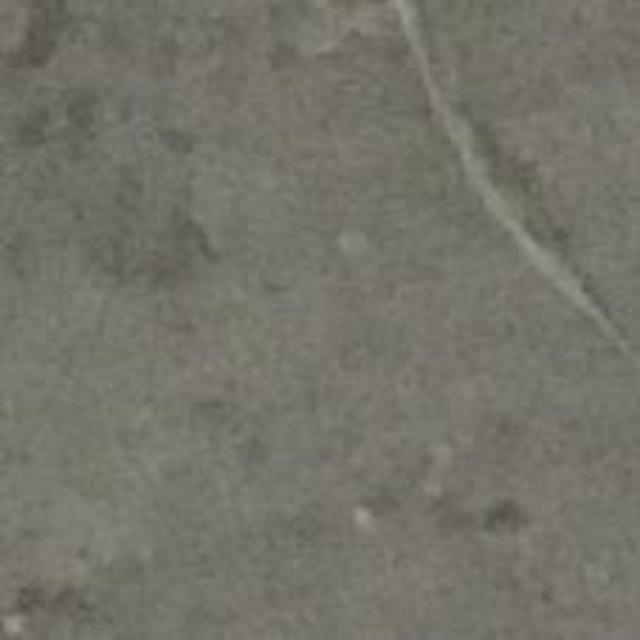crack: (392, 0, 639, 366)
